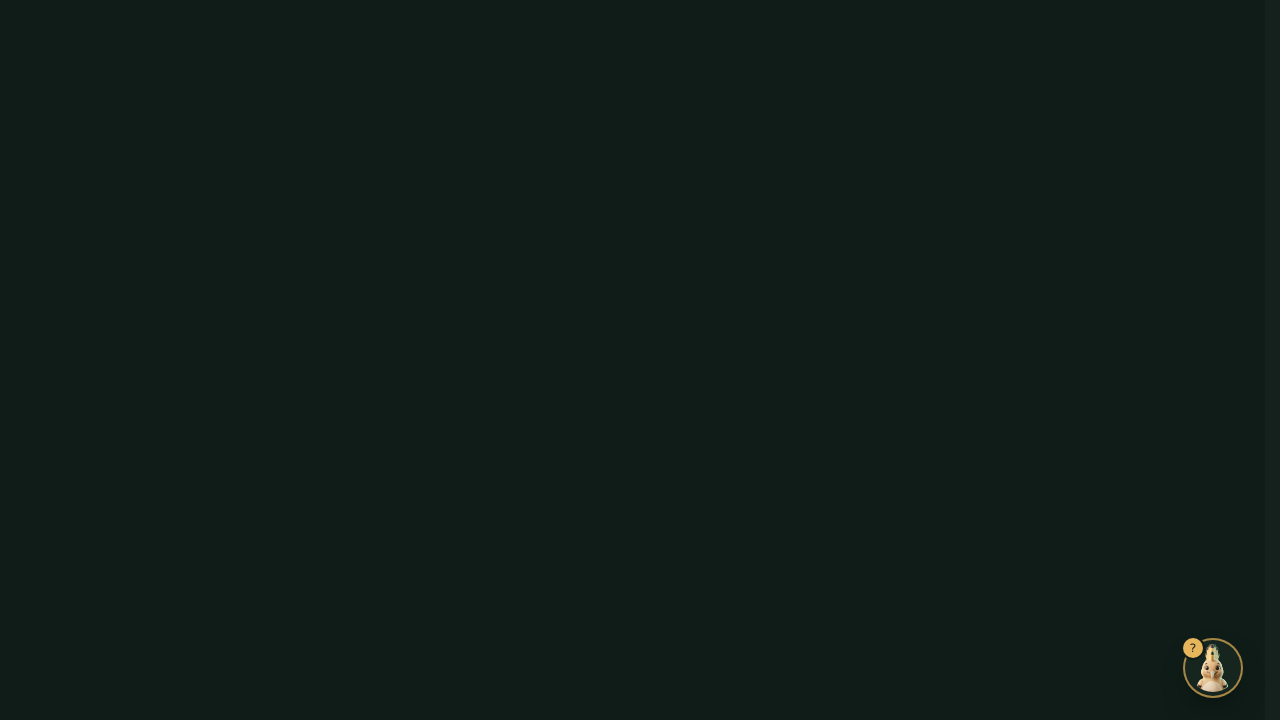
Test: SupportChat — the launcher and the panel › a typed question goes with Enter, with the earlier turns (not the greeting) as history
Later steps or results of the test are not shown.
Click the button named "שאלות ותמיכה".
click(1213, 668)  # box [1185,640,1241,696]
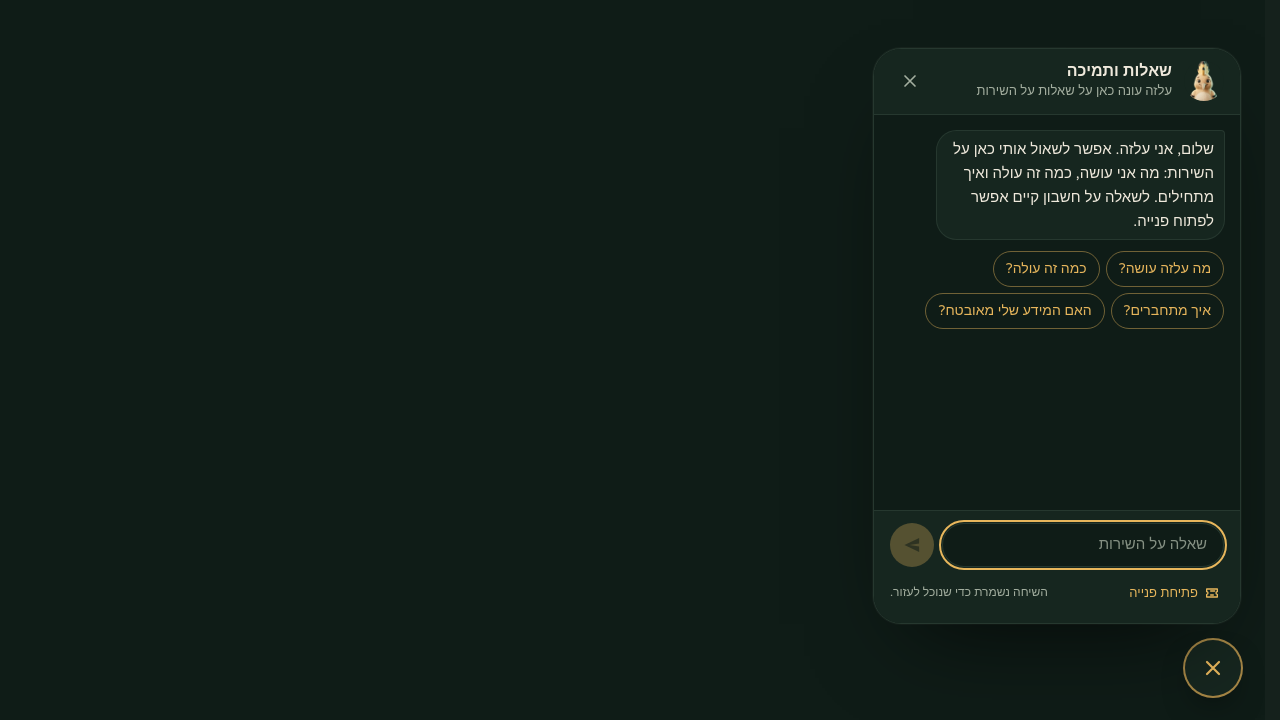
Type "איך מתחברים?" into the text box labelled "שאלה".
click(1083, 545); type("איך מתחברים?")  # box [942,523,1224,567]
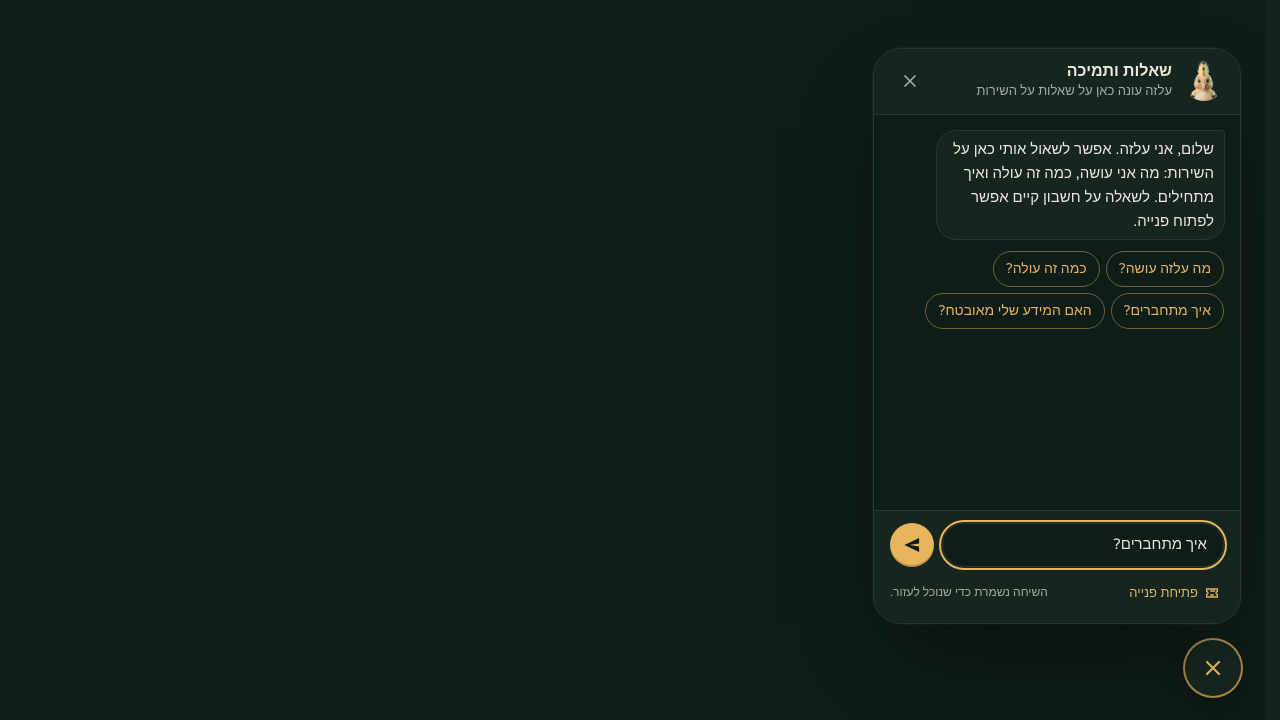
Press Enter in the text box named "שאלה", box [942,523,1224,567]
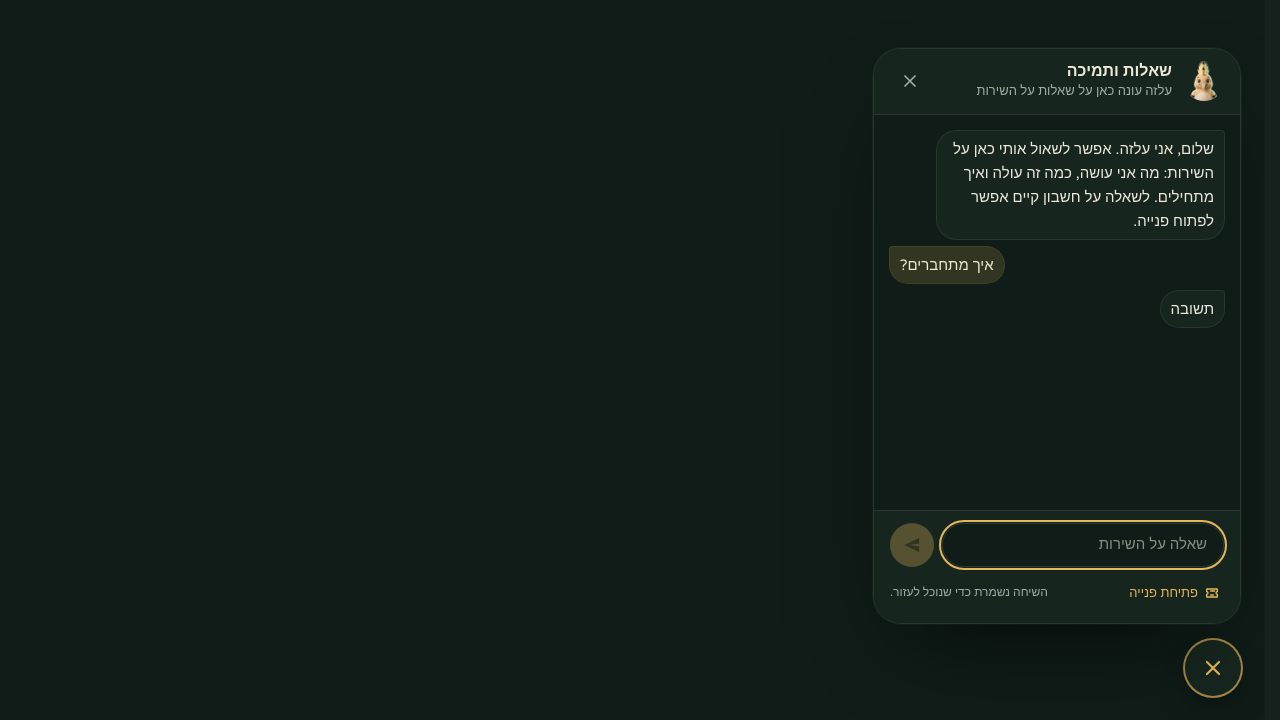
Expected: the text "תשובה" is shown, [1161,291,1224,327]
